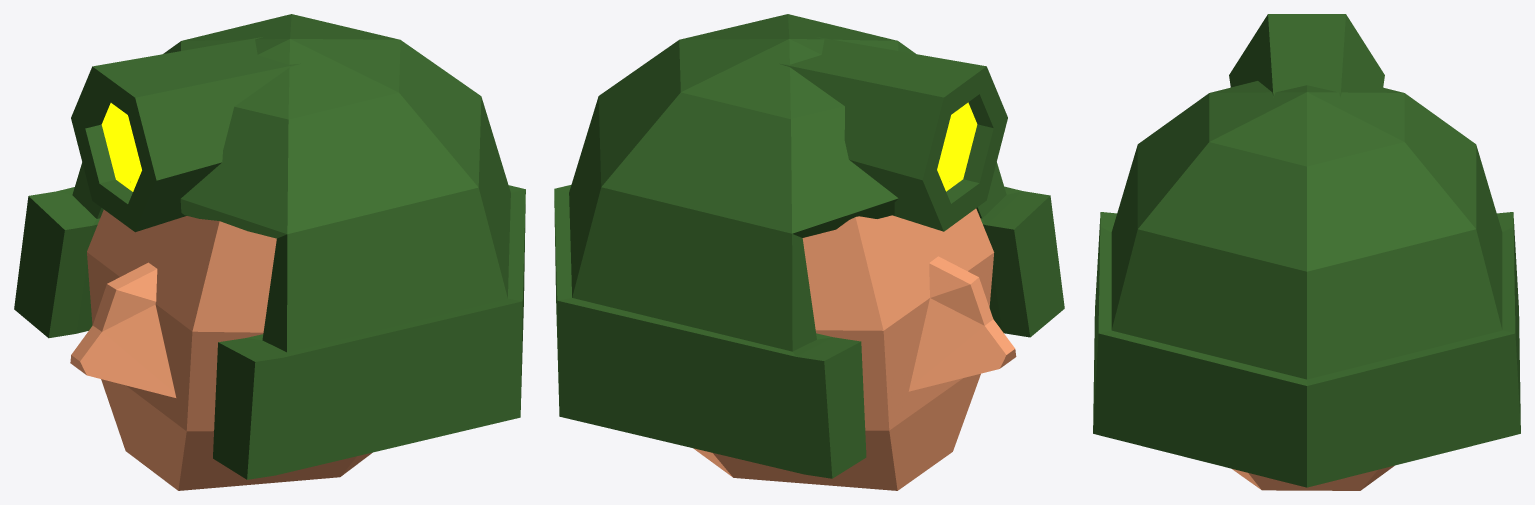
The model's file is Head.gltf.
3 renders of one model, left to right at view 1: azimuth 30°, elevation 25°; view 2: azimuth 150°, elevation 25°; view 3: azimuth 270°, elevation 25°, orthographic. The views are drawn at different scales.
Parts seen in each view (by area): view 1: Sphere; view 2: Sphere; view 3: Sphere.
Part boxes in pixels (bbox=[...]): Sphere: bbox=[14, 14, 525, 490]; Sphere: bbox=[554, 14, 1064, 490]; Sphere: bbox=[1093, 14, 1520, 490].
Bounding box in the file's own units: 0.5139 × 0.4626 × 0.4609.
